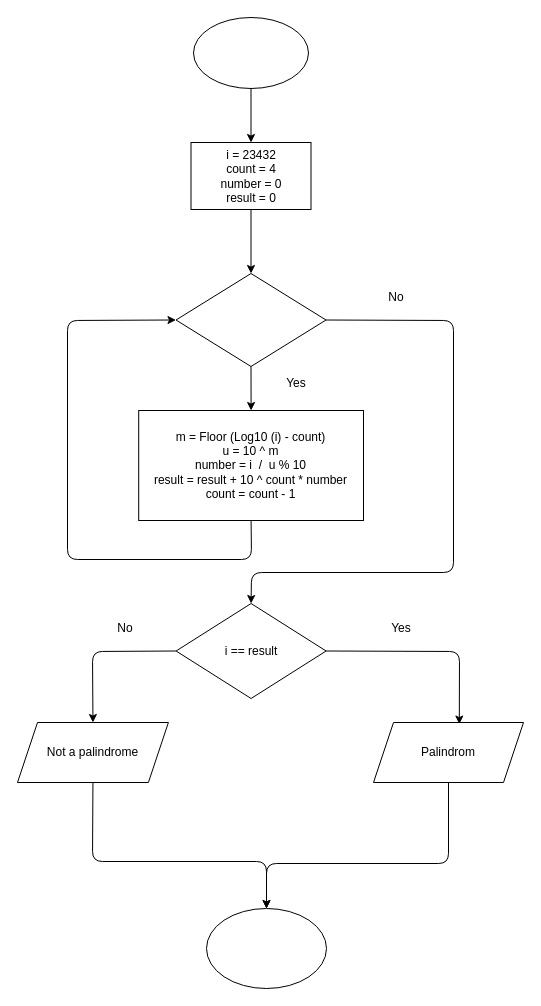
Some shapes in this 541 by 1006 pixel diagram are drawn without their labels. Each missing label, with the box of its shape:
count >= 0: (175, 272, 326, 366)
End: (206, 908, 326, 988)
Start: (192, 16, 308, 88)
